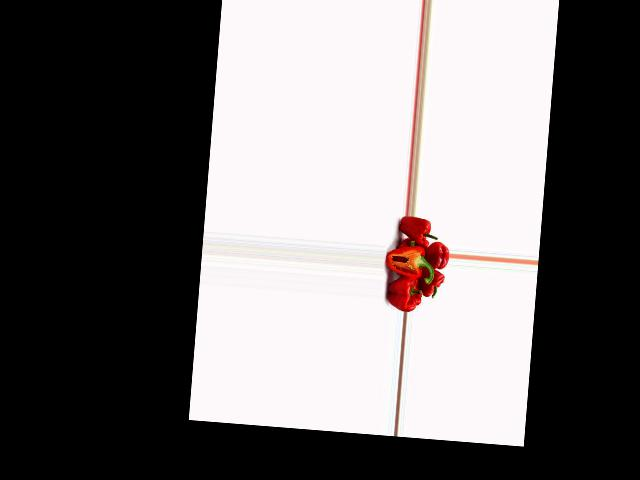bell_pepper: (419, 267, 445, 299)
